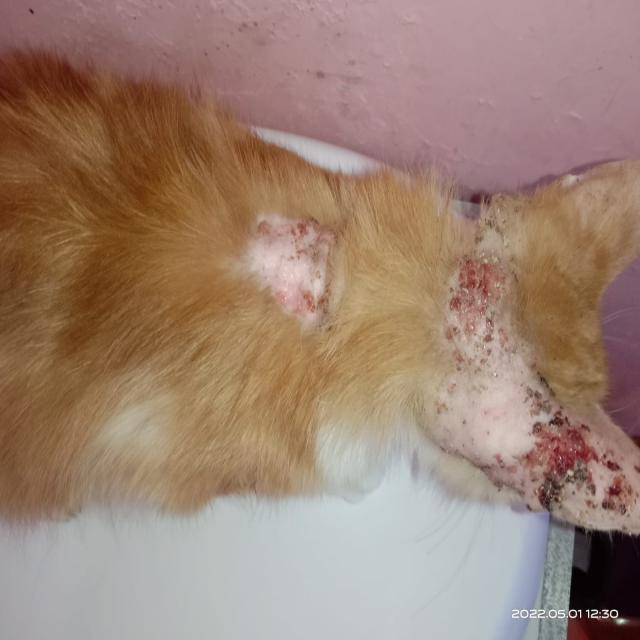hac lao: (222, 188, 378, 357)
